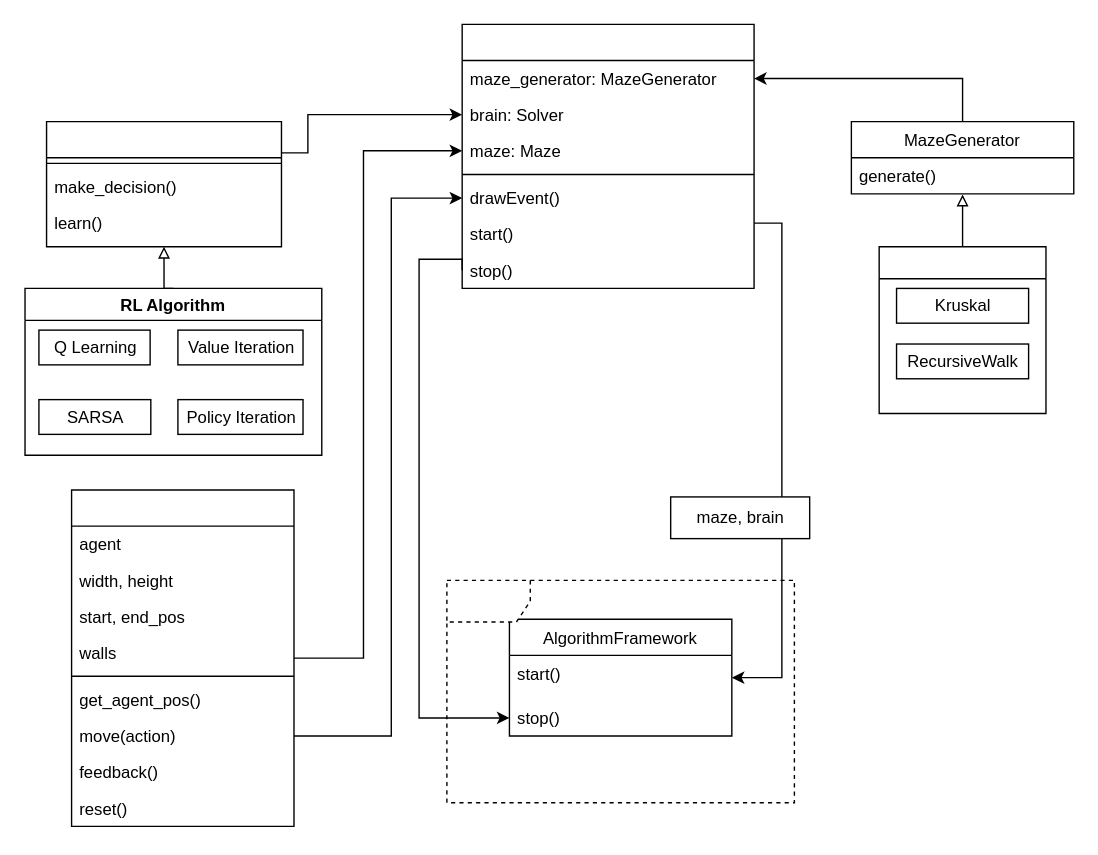
The diagram is 1098 pixels wide and 855 high, and some of its shapes have lost their labels. The shapes that lost their labels are listed below. From the top down, each one's box as (x1, y1, x2, y2) in pixels, then its label:
(461, 23, 754, 288): MainWindow
(45, 120, 281, 247): Solver
(878, 245, 1046, 414): Generate Algorithm
(70, 489, 294, 826): Maze
(445, 579, 794, 803): Another Thread
